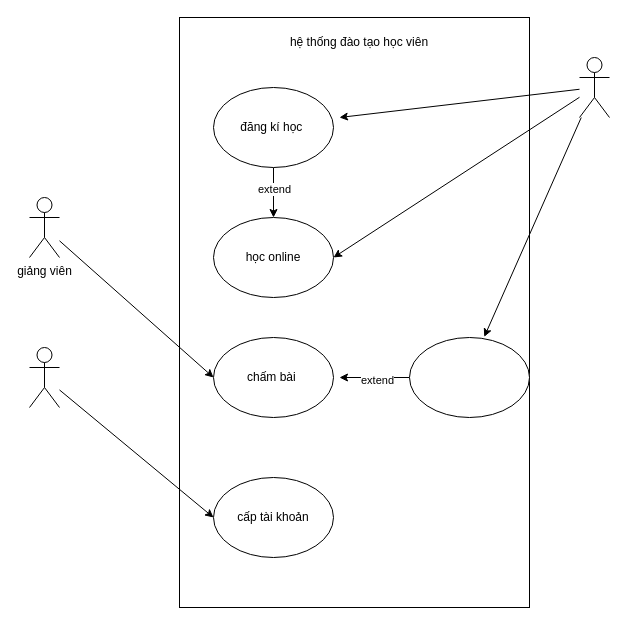
Some shapes in this 634 by 625 pixel diagram are drawn without their labels. The box of each missing label's shape, as (x1, y1, x2, y2) in pixels:
học viên: (578, 56, 610, 118)
quản trị: (28, 346, 60, 408)
xem điểm: (408, 336, 530, 418)
